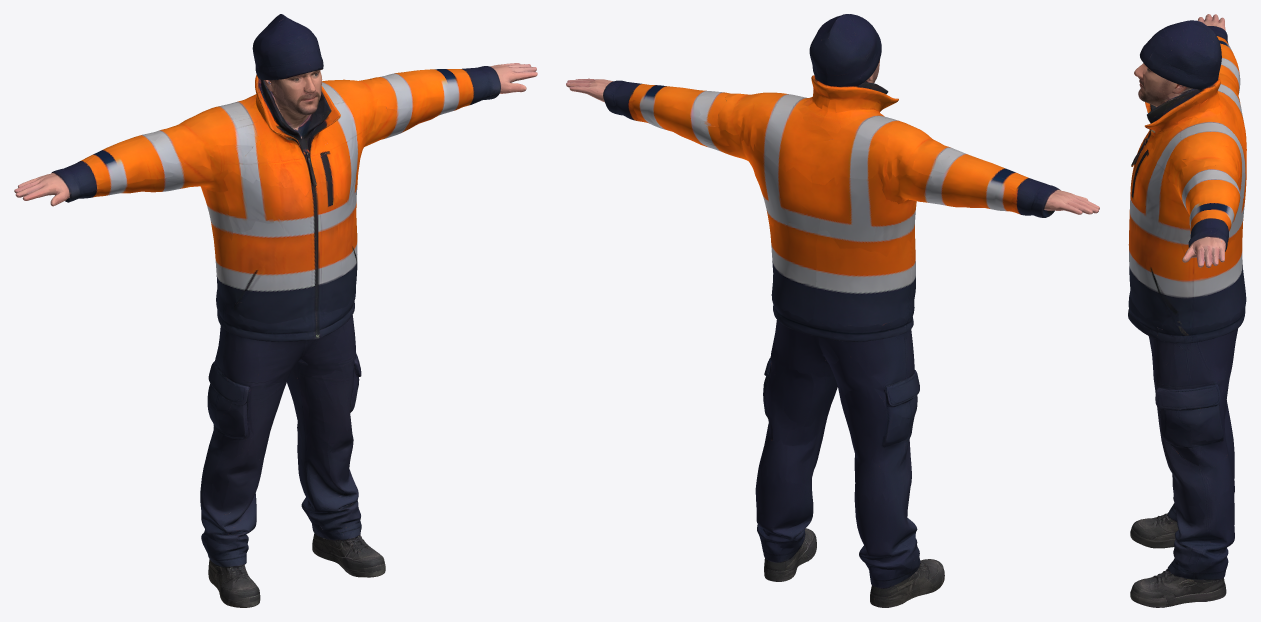
Rendered from ped_worker.glb.
The picture shows the model from 3 angles, left to right: view 1: azimuth 30°, elevation 25°; view 2: azimuth 150°, elevation 25°; view 3: azimuth 270°, elevation 25°; orthographic projection. The views are drawn at different scales.
Parts seen in each view (by area): view 1: Mesh_0; view 2: Mesh_0; view 3: Mesh_0.
Boxes of the visible parts, <box> form: Mesh_0: <box>14,14,537,607</box>; Mesh_0: <box>566,14,1099,607</box>; Mesh_0: <box>1128,14,1246,607</box>.
Size of the model in its own units: 1.86 by 1.9 by 0.371.
1 material, 1 textured.
